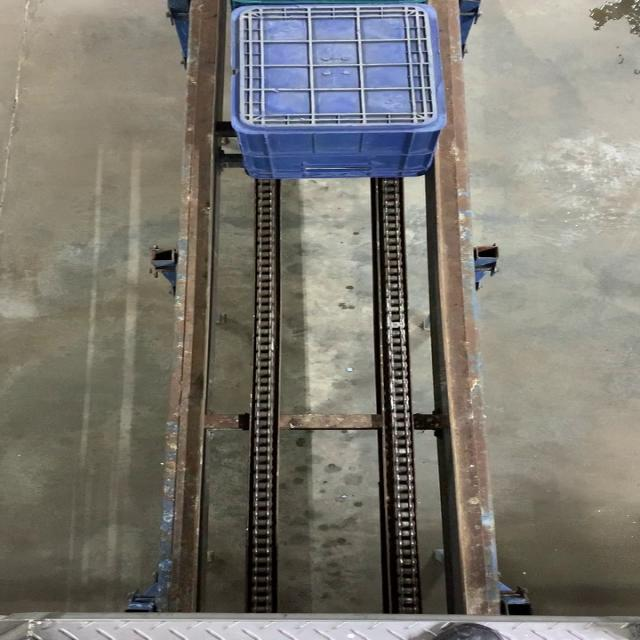Box: (235, 7, 442, 128)
